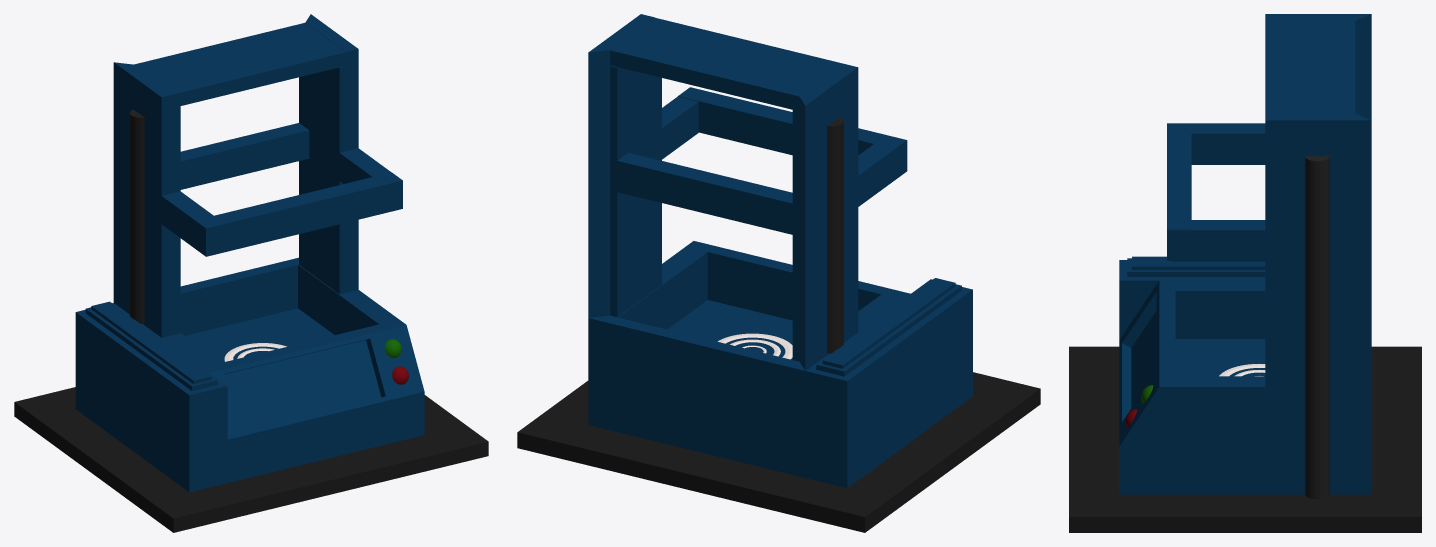
The model's file is printer.gltf.
3 renders of one model, left to right at view 1: azimuth 30°, elevation 25°; view 2: azimuth 150°, elevation 25°; view 3: azimuth 270°, elevation 25°, orthographic. The views are drawn at different scales.
Visible parts, largest first — view 1: Cube, Cube.001, Cylinder.001; view 2: Cube, Cube.001, Cylinder.001; view 3: Cube, Cube.001, Cylinder.
Boxes of the visible parts, x1,y1,x2,y2 form: Cube: (75, 14, 424, 492); Cube.001: (14, 387, 488, 532); Cylinder.001: (129, 109, 144, 323); Cube: (588, 14, 972, 488); Cube.001: (517, 372, 1040, 532); Cylinder.001: (827, 117, 843, 353); Cube: (1119, 14, 1371, 494); Cube.001: (1069, 346, 1421, 532); Cylinder: (1305, 156, 1329, 499).
Bounding box in the file's own units: 3.2 × 3.42 × 2.8.
